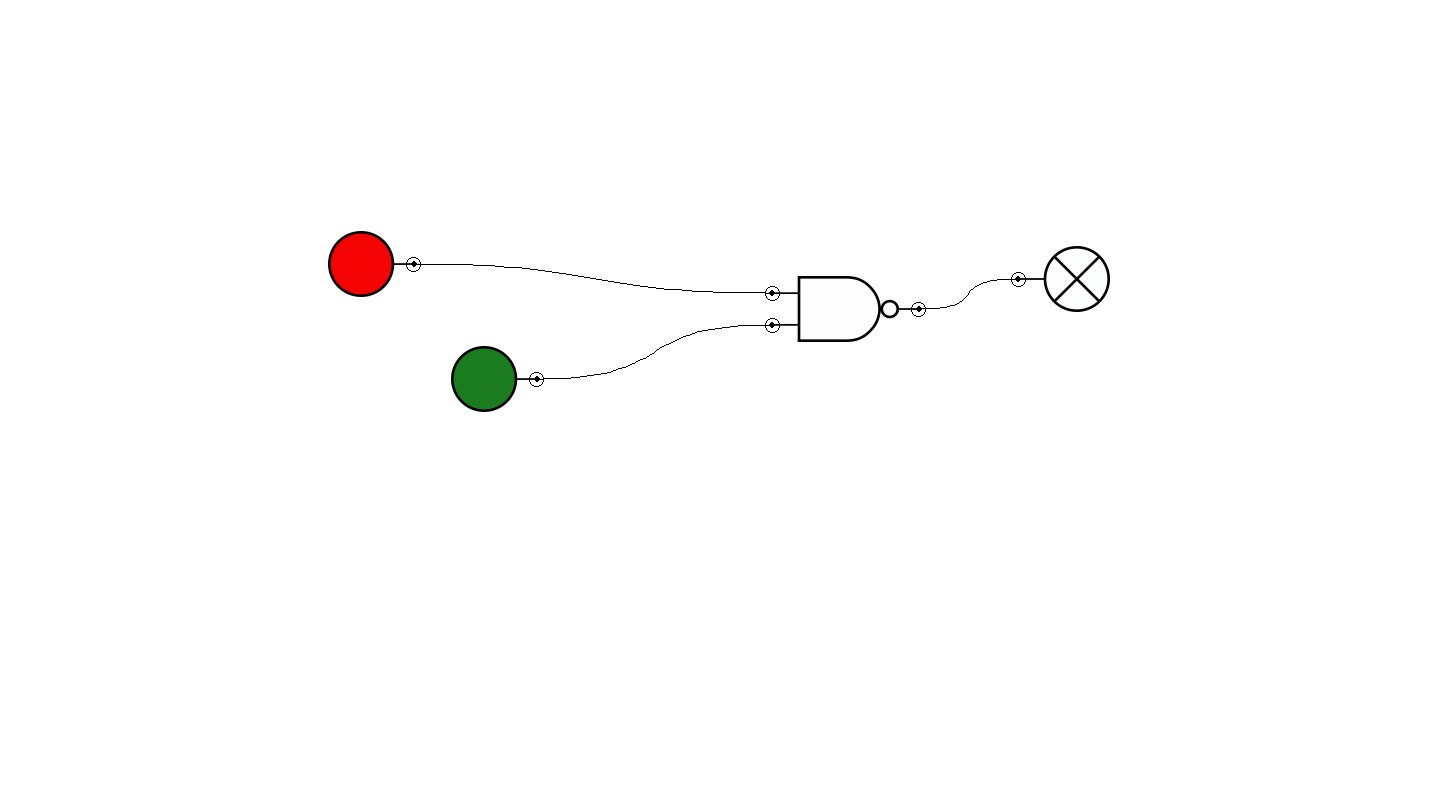bulb: (1011, 246, 1110, 312)
nand: (765, 276, 926, 342)
switch_False: (328, 231, 421, 297)
switch_True: (451, 346, 544, 412)
